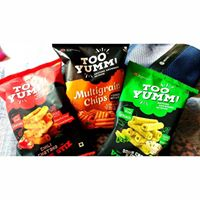plastic: (5, 65, 94, 150), (57, 43, 127, 126), (105, 89, 193, 155)
tooyumm: (133, 79, 178, 109), (73, 49, 121, 72), (7, 80, 57, 100)
wrapper: (13, 72, 92, 146), (126, 58, 182, 154)
